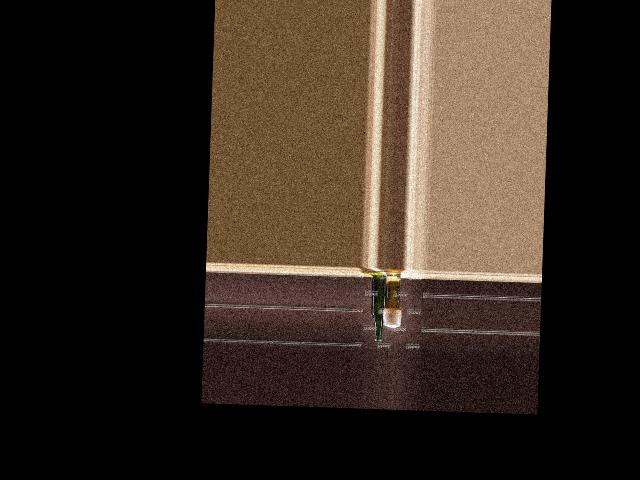beer: (370, 275, 387, 341)
